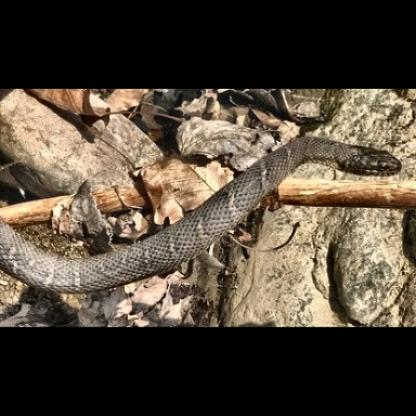Snake: (13, 97, 415, 318)
